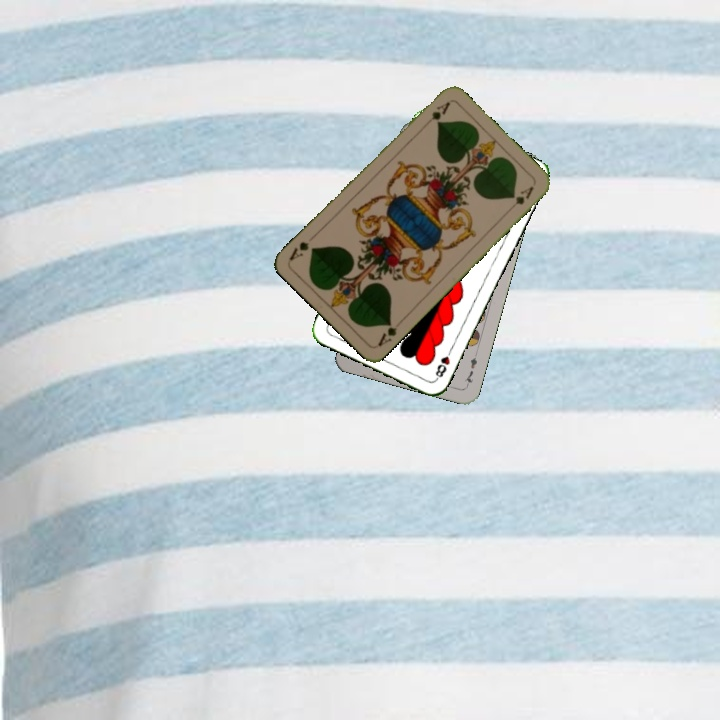E7: (460, 349, 480, 389)
GA: (420, 97, 453, 130), (373, 318, 400, 349)
H8: (431, 344, 455, 382)
